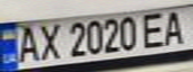0: (118, 12, 142, 52), (84, 17, 106, 56)
2: (66, 18, 87, 58), (103, 15, 124, 54)
A: (157, 7, 193, 46), (12, 24, 42, 63)
E: (136, 9, 172, 50)
X: (33, 20, 63, 61)
